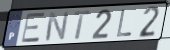2: (137, 5, 161, 39), (90, 8, 114, 41)
E: (20, 12, 46, 45)
L: (115, 8, 133, 38)
N: (44, 11, 70, 42)
T: (73, 10, 91, 41)
